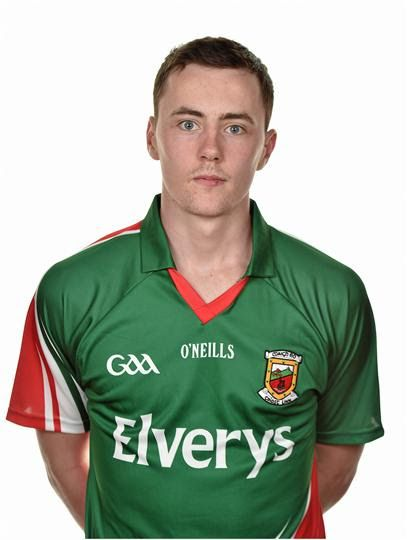player: (18, 32, 373, 537)
